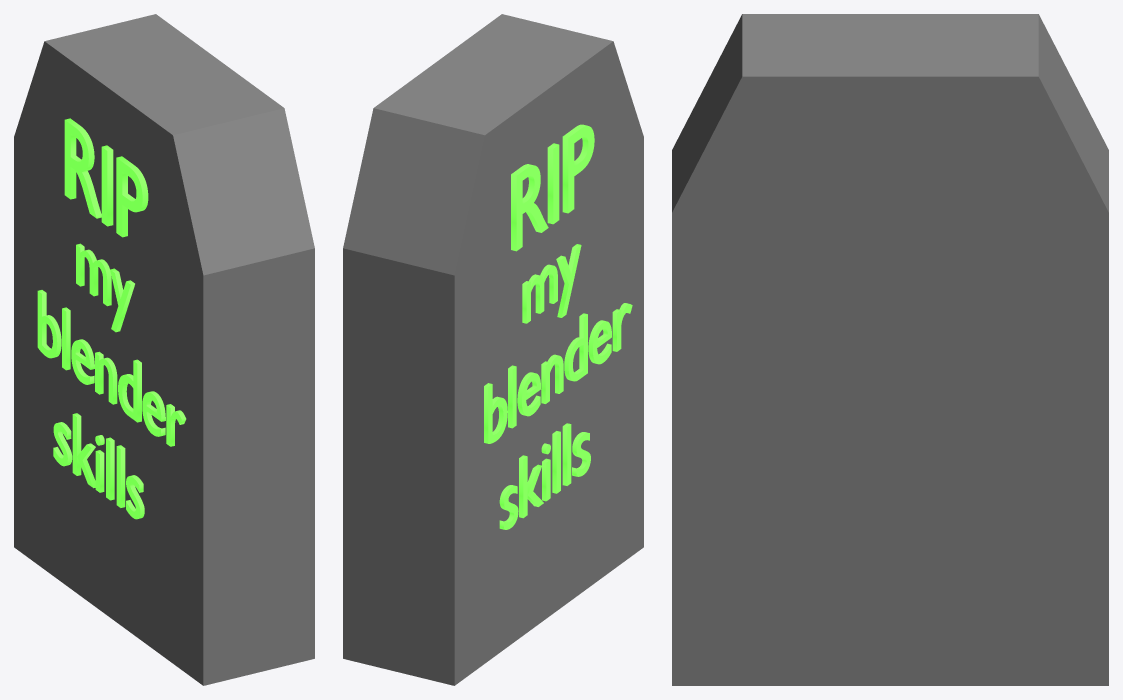
Rendered from tombstone.glb.
The picture shows the model from 3 angles, left to right: view 1: azimuth 30°, elevation 25°; view 2: azimuth 150°, elevation 25°; view 3: azimuth 270°, elevation 25°; orthographic projection. The views are drawn at different scales.
Parts seen in each view (by area): view 1: Cube, Text.002, Text, Text.003, Text.001; view 2: Cube, Text.002, Text, Text.003, Text.001; view 3: Cube.
Part boxes in pixels (box(x1,y1,x2,y2)): Cube: box(14, 14, 314, 685); Text.002: box(37, 290, 186, 446); Text: box(64, 118, 148, 237); Text.003: box(53, 413, 144, 519); Text.001: box(76, 243, 134, 332); Cube: box(343, 14, 643, 685); Text.002: box(484, 303, 632, 443); Text: box(511, 124, 594, 251); Text.003: box(499, 423, 590, 529); Text.001: box(522, 244, 581, 323); Cube: box(672, 14, 1108, 685).
Size of the model in its own units: 0.3341 by 1.44 by 0.9353.
